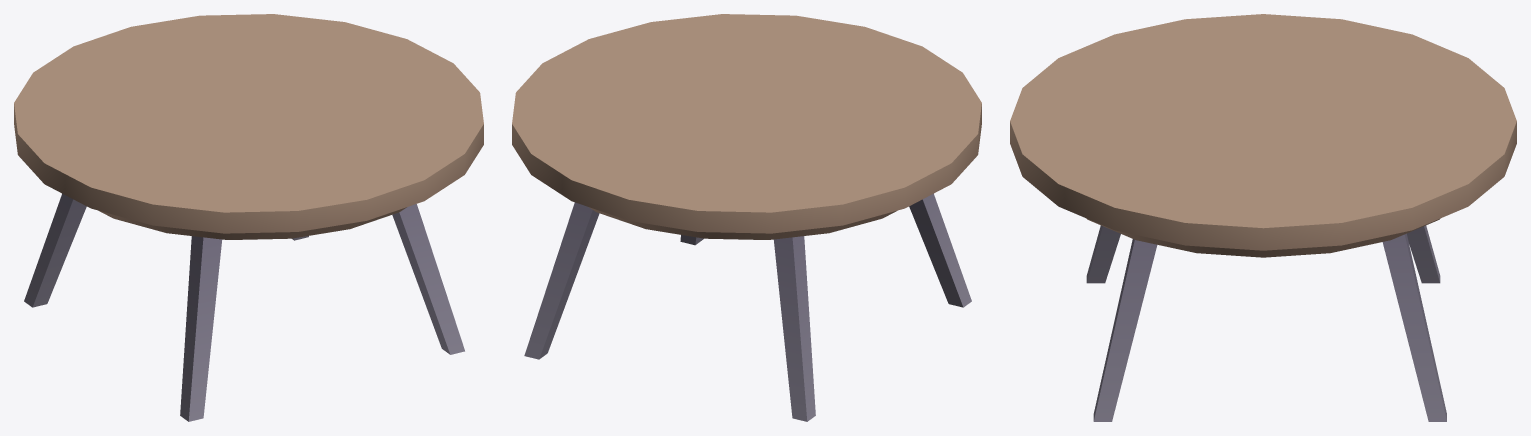
Rendered from table-kitchen-round-spread.glb.
The picture shows the model from 3 angles, left to right: view 1: azimuth 30°, elevation 25°; view 2: azimuth 150°, elevation 25°; view 3: azimuth 270°, elevation 25°; orthographic projection. The views are drawn at different scales.
Parts seen in each view (by area): view 1: table-kitchen-round-spread; view 2: table-kitchen-round-spread; view 3: table-kitchen-round-spread.
Part boxes in pixels (x1,y1,x2,y2): table-kitchen-round-spread: (14, 14, 483, 421); table-kitchen-round-spread: (512, 14, 981, 421); table-kitchen-round-spread: (1010, 14, 1516, 421).
Bounding box in the file's own units: 1.03 × 0.5146 × 1.03.
